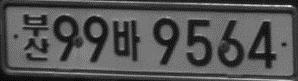4: (247, 20, 276, 69)
5: (185, 18, 212, 66)
6: (217, 19, 245, 67)
9: (82, 14, 109, 63), (53, 13, 79, 62), (153, 17, 179, 65)
바: (112, 19, 140, 61)
부산_V: (21, 13, 50, 61)
